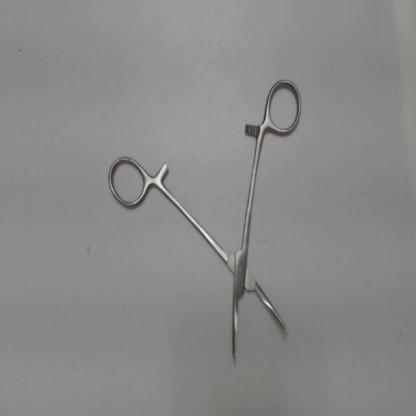Crile Artery Forceps: (105, 71, 308, 369)
